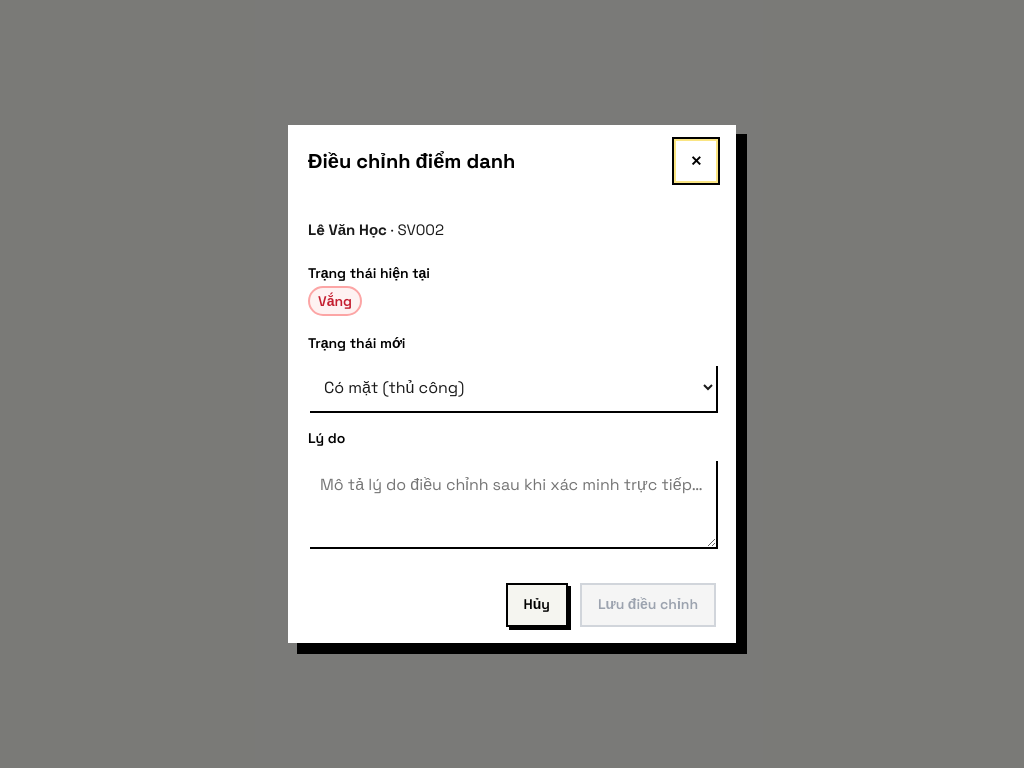
Test: ManualCorrectionDialog — FR-20 AC-13 AC-14 AC-25 NFR-17 › TC-AC-13-010: gates save until reason meets minimum length
Expected: the button "Lưu điều chỉnh" is disabled, [580,583,716,627]
Type "Xác minh trực tiếp sinh viên có mặt." into the text box labelled "Lý do" at (512, 503), box [308,459,716,547]
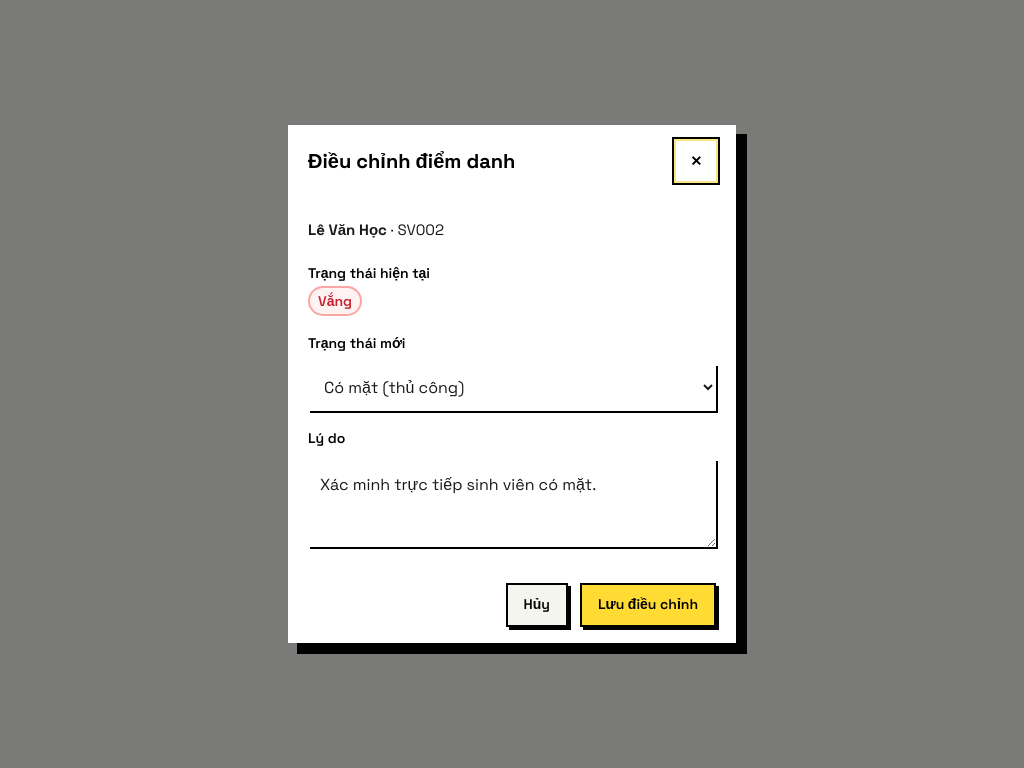
Expected: the button "Lưu điều chỉnh" is enabled, [580,583,716,627]
